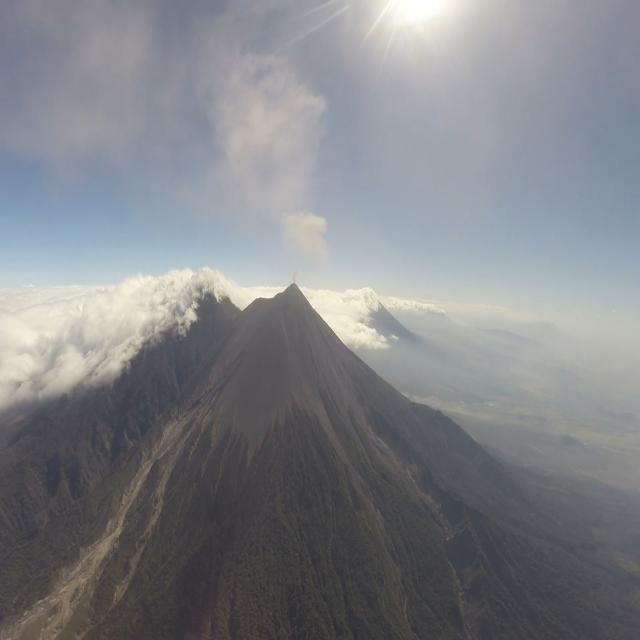Plume: (294, 266, 300, 284)
Summit: (274, 281, 310, 304)
